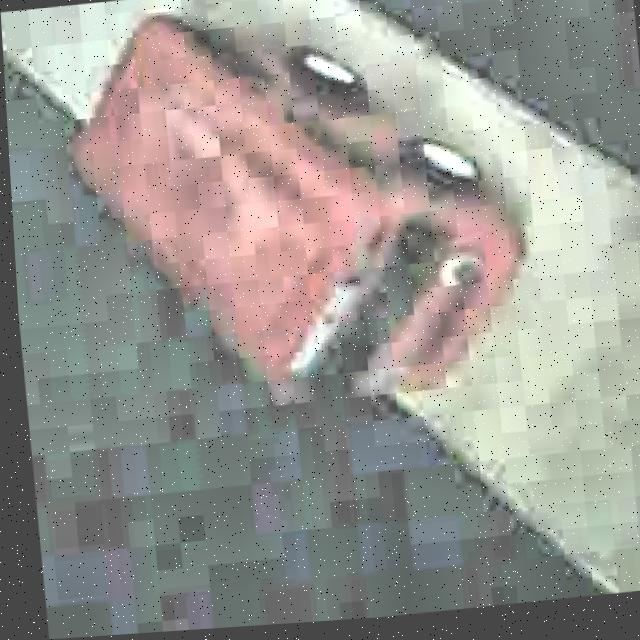bus: (49, 0, 548, 429)
